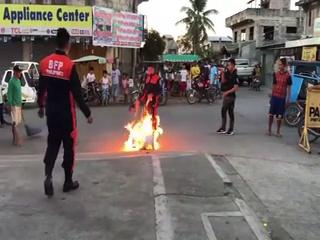Fire: (119, 100, 167, 151)
